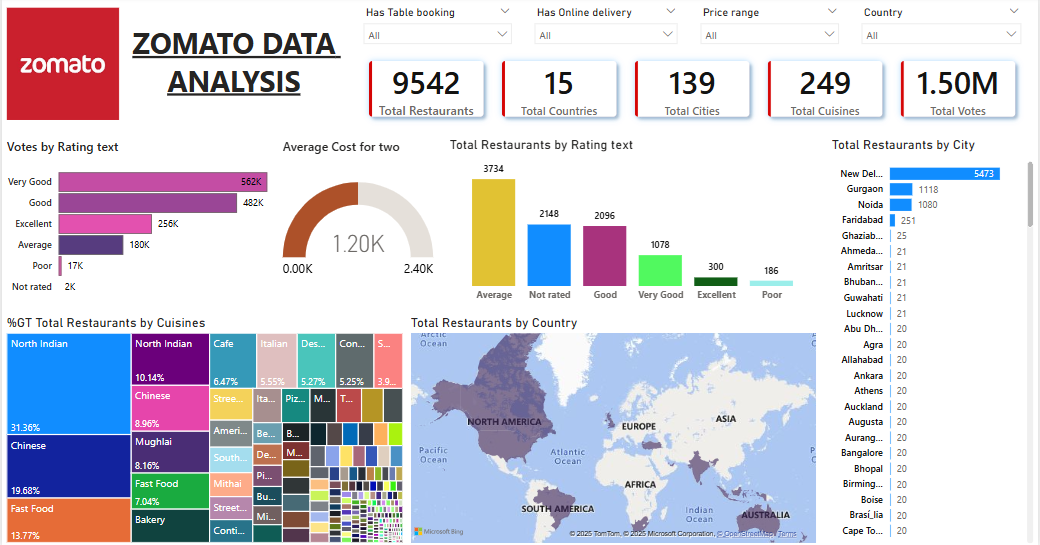

This screenshot's page, from the dashboard's own definition file:
{"tool":"powerbi","page":{"name":"Page 1","canvas":[1355,720],"ordinal":0},"visuals":[{"type":"slicer","fields":{"Values":["Country Master.Country"]},"box":[1115.7,7.1,228.6,55.7],"z":0},{"type":"slicer","fields":{"Values":["KPIs.Price range"]},"box":[904.3,7.1,201.4,55.7],"z":1000},{"type":"slicer","fields":{"Values":["KPIs.Has Online delivery"]},"box":[687.1,7.1,207.1,55.7],"z":2000},{"type":"slicer","fields":{"Values":["KPIs.Has Table booking"]},"box":[462.9,7.1,214.3,55.7],"z":3000},{"type":"cardVisual","fields":{"Data":["Zomato Sales.Total Restaurants","Country Master.Total Countries","Zomato Sales.Total Cities","Zomato Sales.Total Cuisines","Country Master.Total Votes"]},"box":[462.9,67.1,881.4,107.1],"z":4000},{"type":"barChart","fields":{"Category":["Zomato Sales.City"],"Y":["Zomato Sales.Total Restaurants"]},"box":[1081.4,182.9,273.6,537.1],"z":5000},{"type":"treemap","fields":{"Group":["Zomato Sales.Cuisines"],"Values":["Zomato Sales.Total Restaurants"]},"box":[1.5,416.4,528.4,303],"z":6000},{"type":"filledMap","fields":{"Category":["Country Master.Country"]},"box":[529.9,416.4,540.3,303],"z":7000},{"type":"columnChart","fields":{"Y":["Zomato Sales.Total Restaurants"],"Category":["KPIs.Rating text"]},"box":[580.6,183.6,489.6,225.4],"z":8000},{"type":"clusteredBarChart","title":"Votes by Rating text","fields":{"Category":["KPIs.Rating text"],"Y":["Sum(KPIs.Votes)"]},"box":[1.4,184.3,351.4,224.3],"z":9000},{"type":"gauge","title":"Average Cost for two","fields":{"Y":["Avg(KPIs.Average Cost for two)"]},"box":[362.9,184.3,207.1,224.3],"z":10000},{"type":"image","box":[1.4,0,157.1,174.3],"z":11000},{"type":"textbox","box":[158.6,30,290,114.3],"z":12000}]}

Visuals, with their boxes in screenshot pixels (x1, y1, x2, y2), scaled from the page's 1355x720 canvas onto the 1040x545 screenshot:
slicer - Country Master.Country: (left=856, top=5, right=1032, bottom=48)
slicer - KPIs.Price range: (left=694, top=5, right=849, bottom=48)
slicer - KPIs.Has Online delivery: (left=527, top=5, right=686, bottom=48)
slicer - KPIs.Has Table booking: (left=355, top=5, right=520, bottom=48)
cardVisual - Zomato Sales.Total Restaurants x Country Master.Total Countries: (left=355, top=51, right=1032, bottom=132)
barChart - Zomato Sales.City x Zomato Sales.Total Restaurants: (left=830, top=138, right=1039, bottom=544)
treemap - Zomato Sales.Cuisines x Zomato Sales.Total Restaurants: (left=1, top=315, right=407, bottom=544)
filledMap - Country Master.Country: (left=407, top=315, right=821, bottom=544)
columnChart - Zomato Sales.Total Restaurants x KPIs.Rating text: (left=446, top=139, right=821, bottom=310)
"Votes by Rating text" clusteredBarChart: (left=1, top=140, right=271, bottom=309)
"Average Cost for two" gauge: (left=279, top=140, right=437, bottom=309)
image: (left=1, top=0, right=122, bottom=132)
textbox: (left=122, top=23, right=344, bottom=109)
